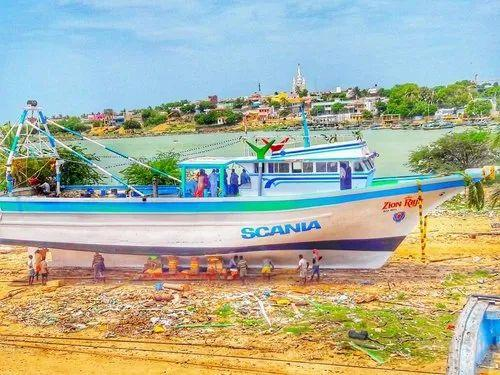fishing boat: (0, 98, 500, 272)
